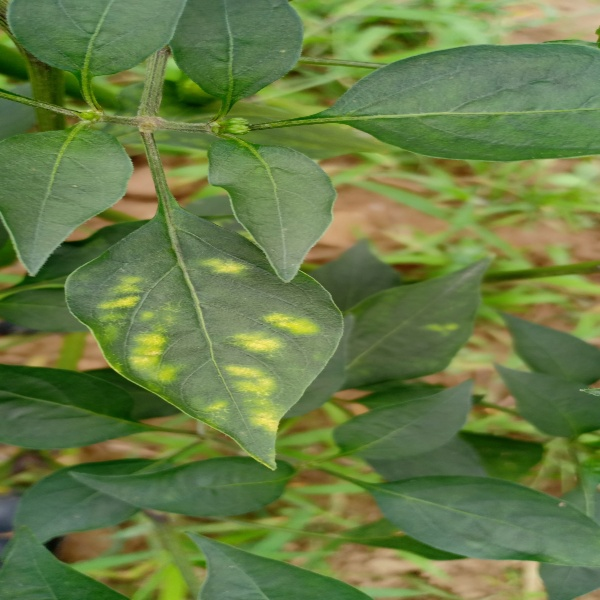iouv: (67, 213, 344, 471)
